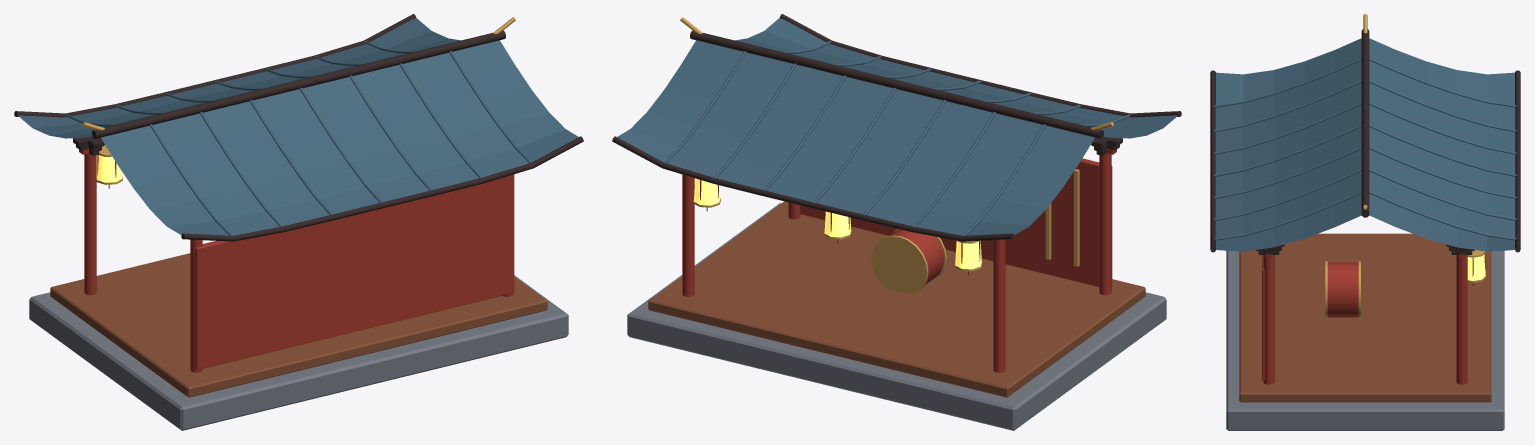
The model's file is model-performance.glb.
3 views of the same model, side by side, from view 1: azimuth 30°, elevation 25°; view 2: azimuth 150°, elevation 25°; view 3: azimuth 270°, elevation 25° (orthographic). The views are drawn at different scales.
Visible parts, largest first — view 1: model-performance; view 2: model-performance; view 3: model-performance.
Part boxes in pixels (x1,y1,x2,y2): model-performance: [14, 14, 583, 430]; model-performance: [612, 14, 1181, 430]; model-performance: [1210, 14, 1520, 430].
Bounding box in the file's own units: 12.25 × 7.02 × 8.35.
